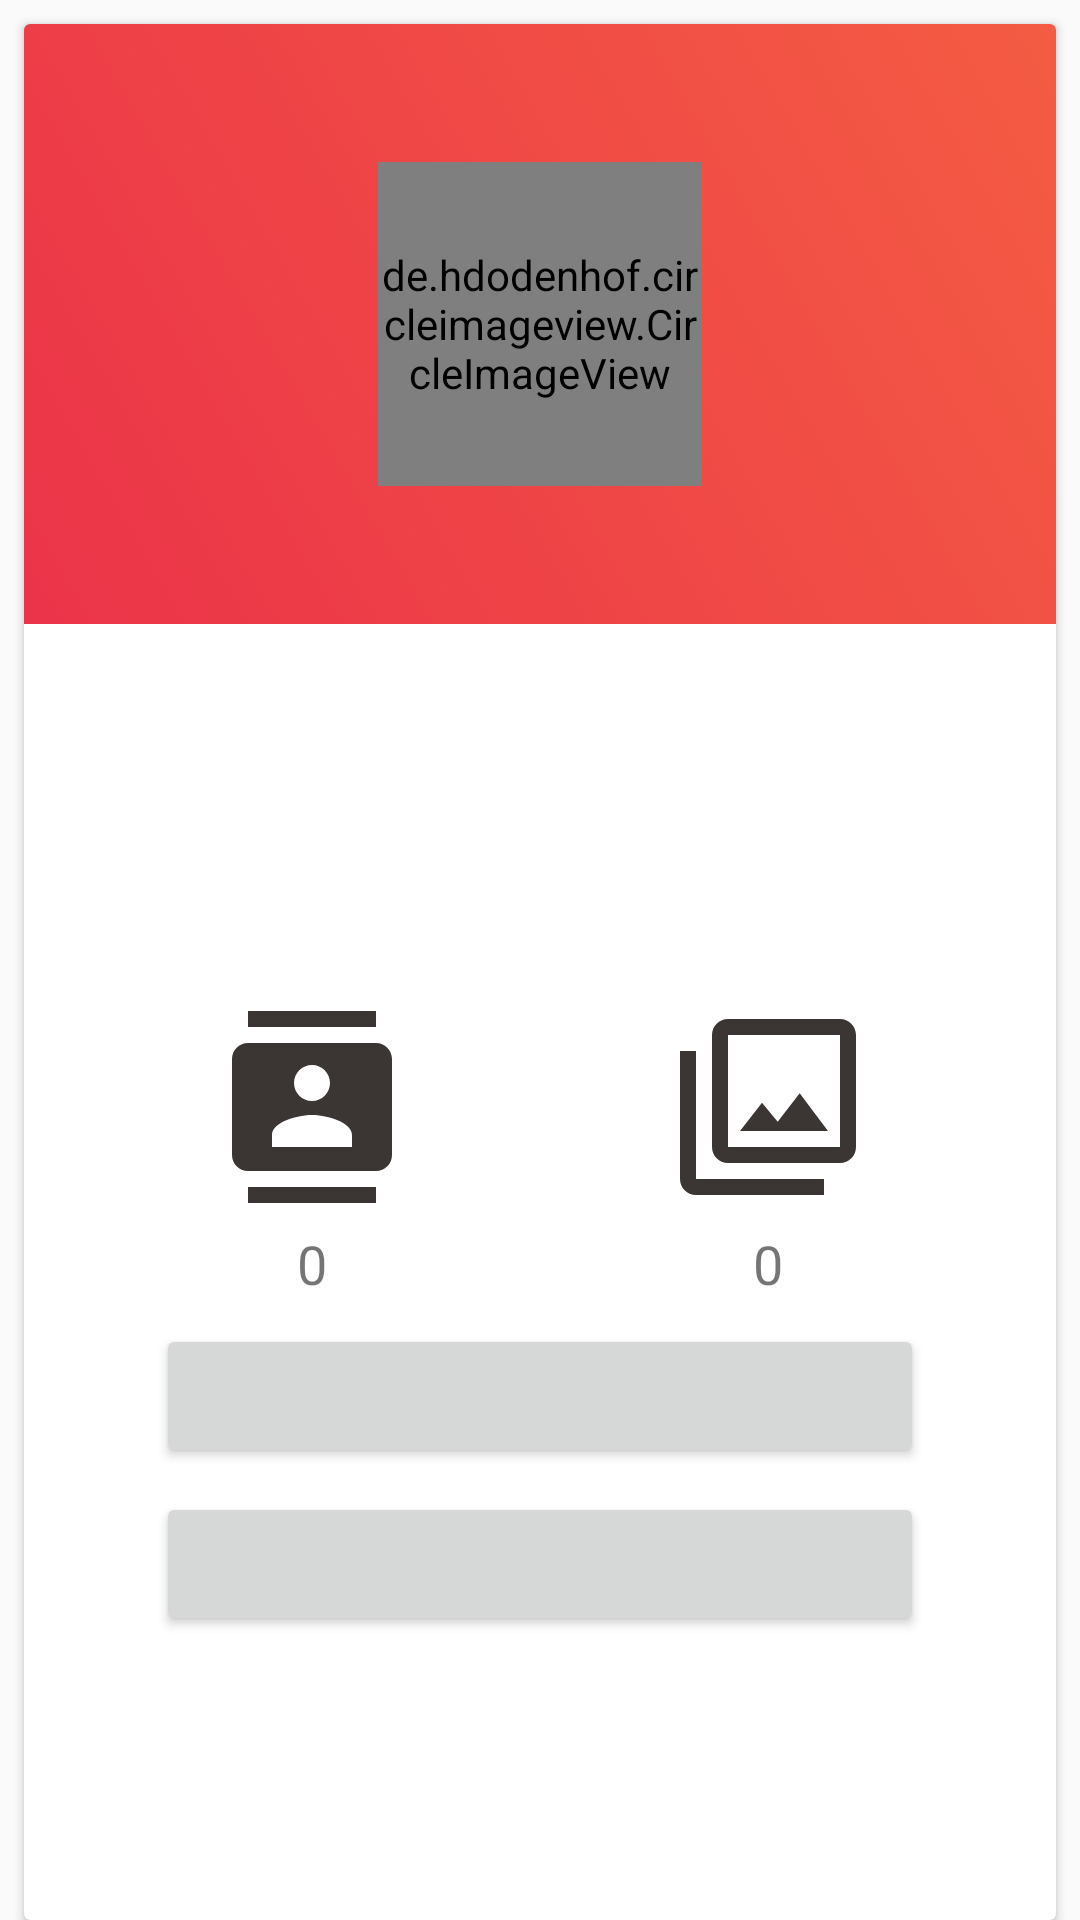

Screen size 1080*1920. Icon name, then its box in pixels as (x1,y1,x2,y2):
contacts: (232,1011,392,1203)
postscount: (680,1019,856,1195)
